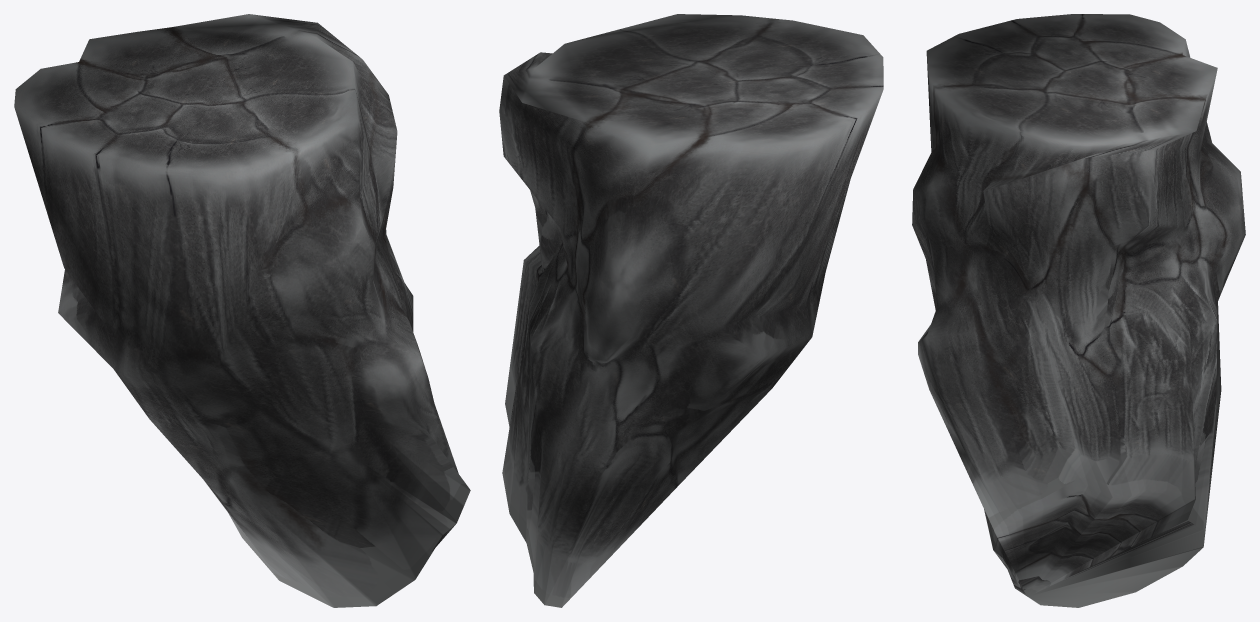
File: rock1.fbx
3 views of the same model, side by side, from view 1: azimuth 30°, elevation 25°; view 2: azimuth 150°, elevation 25°; view 3: azimuth 270°, elevation 25° (orthographic). The views are drawn at different scales.
Parts seen in each view (by area): view 1: rock_low; view 2: rock_low; view 3: rock_low.
Boxes of the visible parts, box(x1,y1,x2,y2) form: rock_low: box(14, 14, 470, 607); rock_low: box(499, 14, 883, 607); rock_low: box(912, 14, 1245, 607).
Size of the model in its own units: 1251 by 1735 by 1111.
